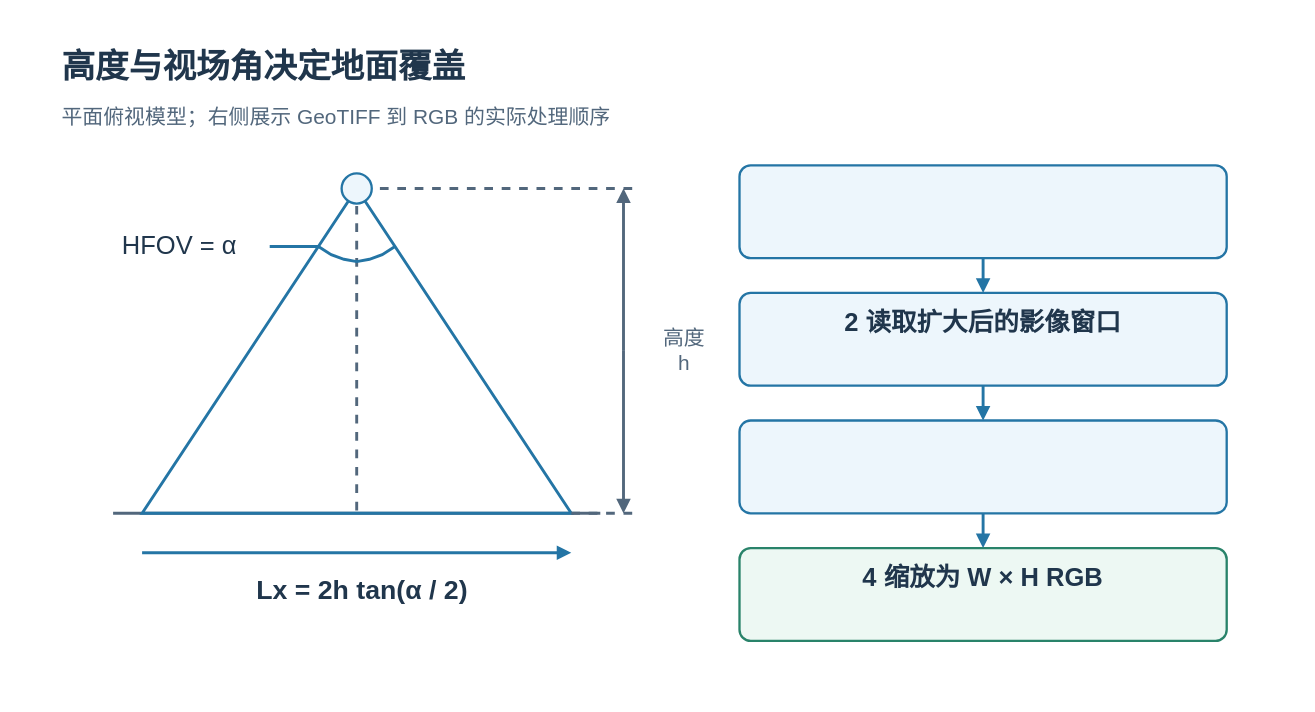
The diagram is 1315 pixels wide and 712 high, and some of its shapes have lost their labels. The box of each missing label's shape, as (x1, y1, x2, y2) in pixels:
1 计算覆盖与旋转后的边界: (738, 164, 1227, 259)
3 按 heading 旋转、中心裁剪: (738, 419, 1227, 514)
